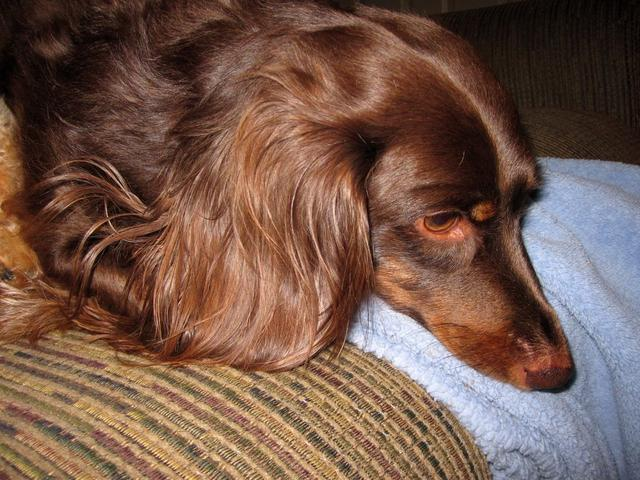dog: (134, 1, 613, 406)
